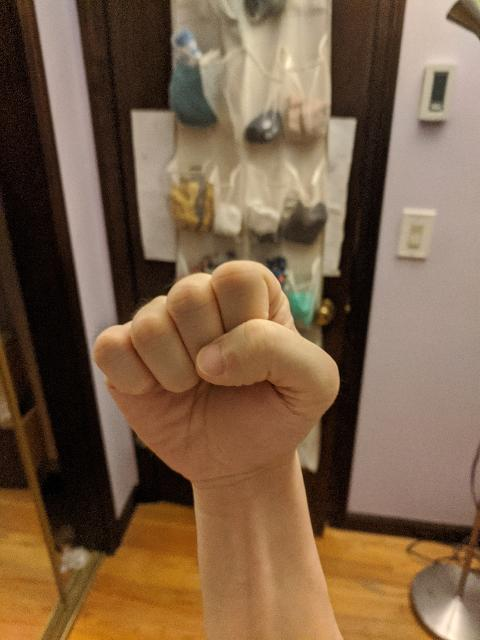S: (88, 254, 344, 486)
